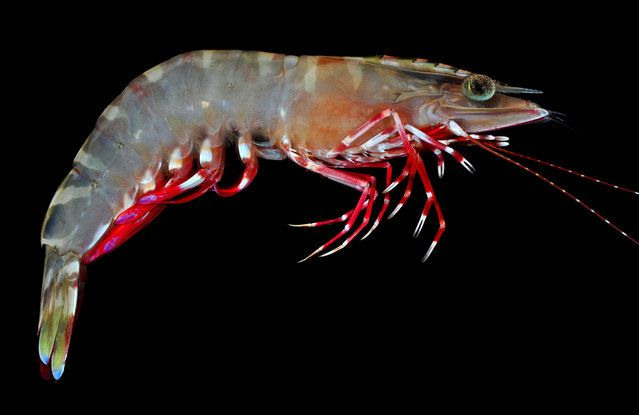shrimp_full_near: (25, 35, 591, 386)
